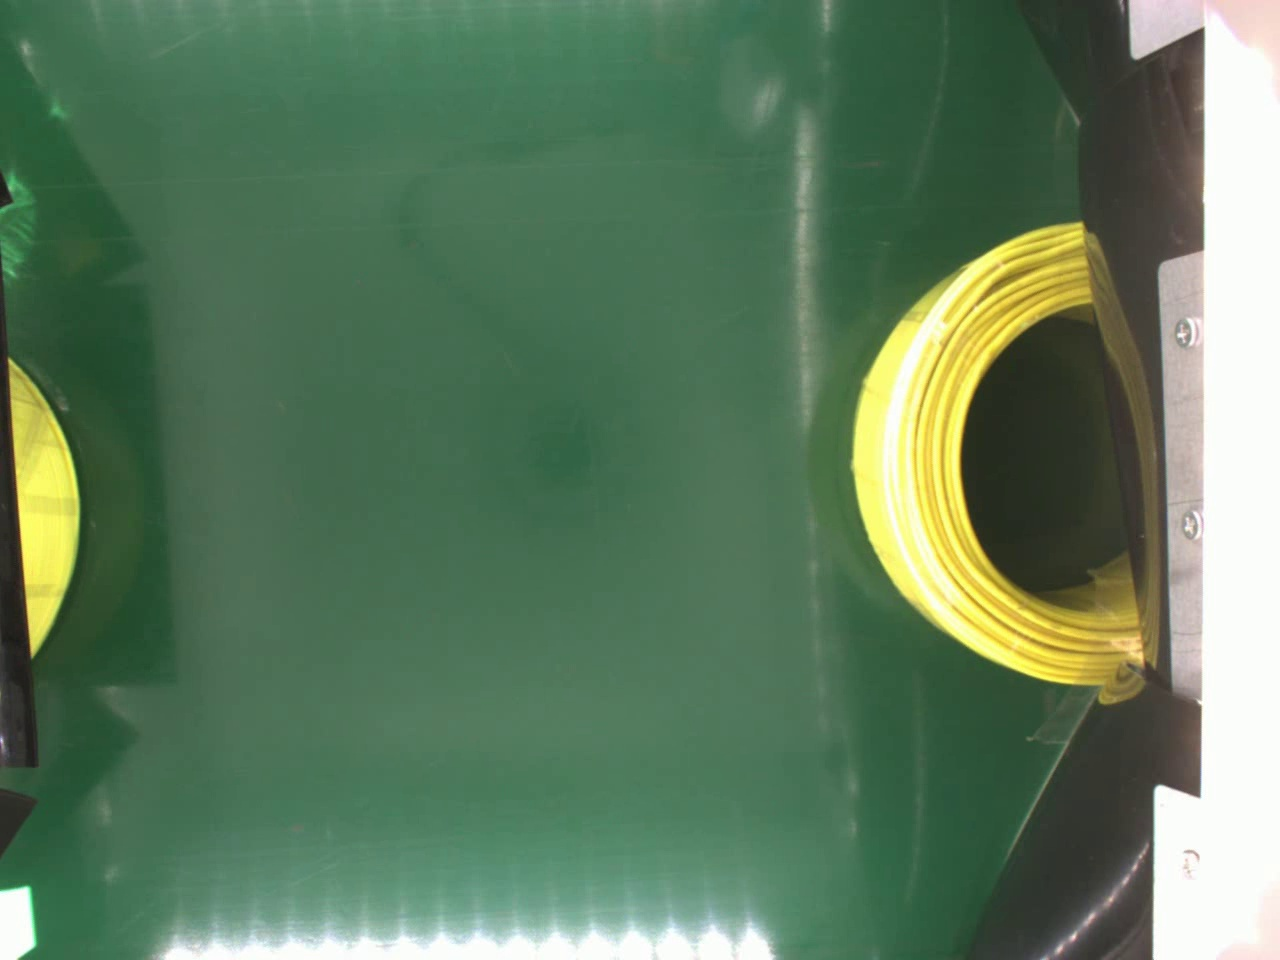yellow: (846, 220, 1142, 683)
